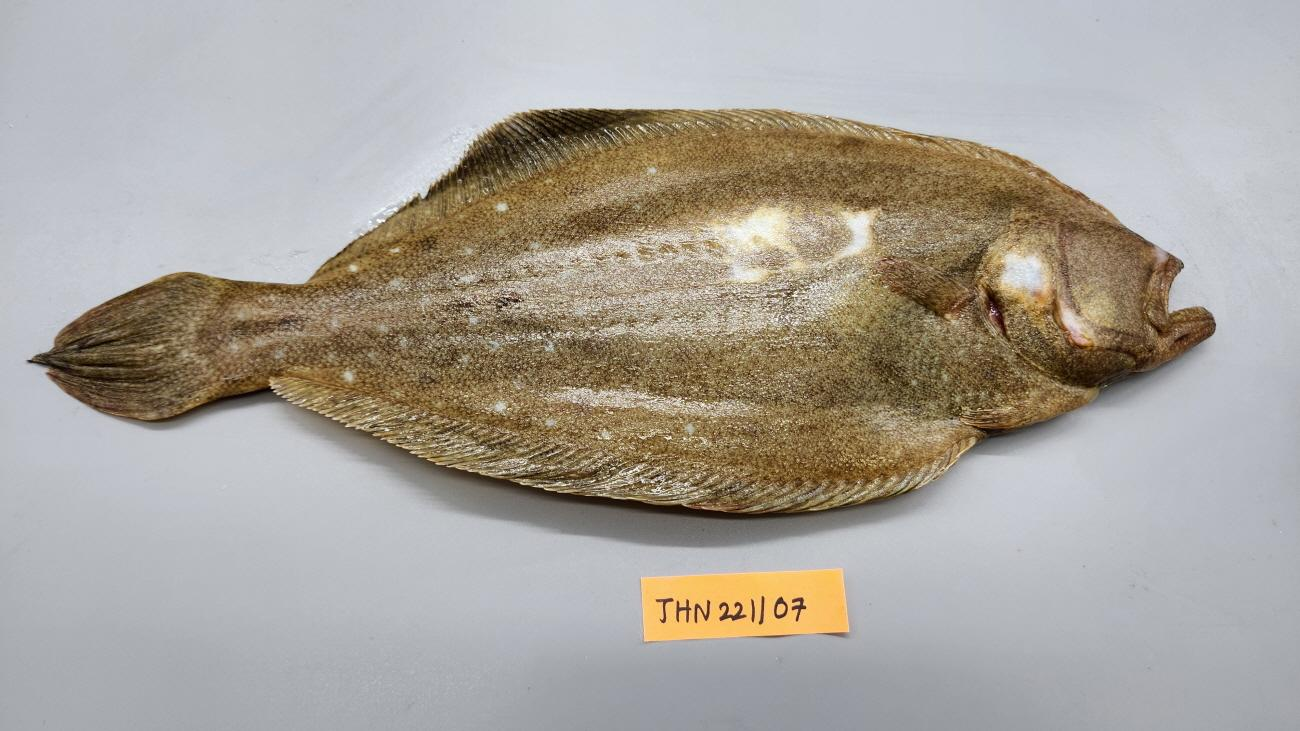POOUN: (24, 109, 1219, 518)
